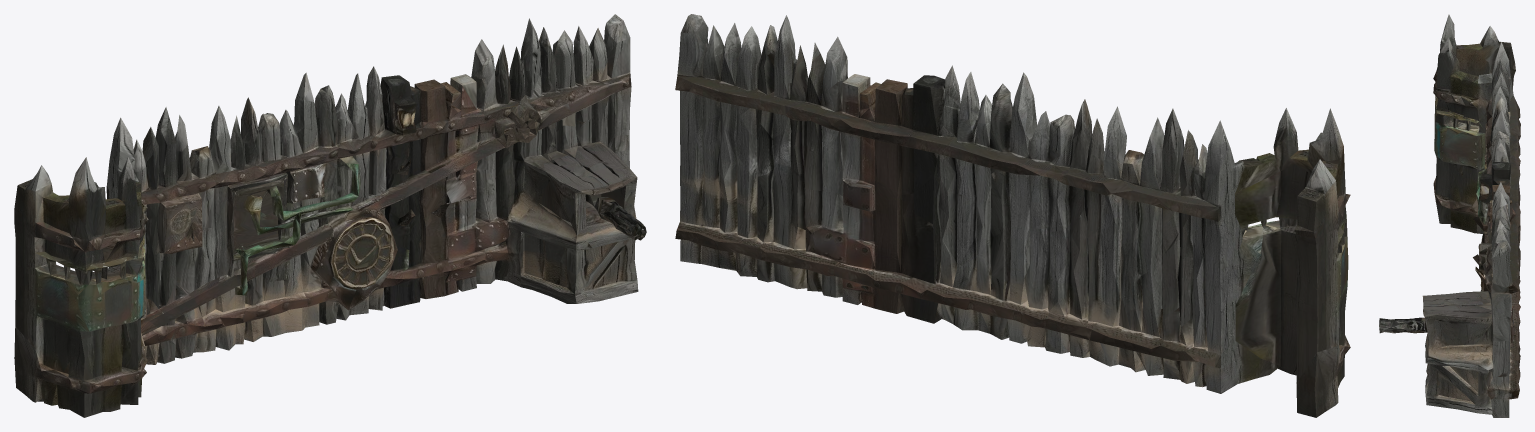
File: palisade_b.glb
The picture shows the model from 3 angles, left to right: view 1: azimuth 30°, elevation 25°; view 2: azimuth 150°, elevation 25°; view 3: azimuth 270°, elevation 25°; orthographic projection. The views are drawn at different scales.
Parts seen in each view (by area): view 1: mesh_node; view 2: mesh_node; view 3: mesh_node.
Part boxes in pixels (x1,y1,x2,y2): mesh_node: [14, 14, 646, 417]; mesh_node: [675, 14, 1350, 417]; mesh_node: [1379, 14, 1520, 417].
Size of the model in its own units: 1.9 by 0.7701 by 0.5123.
Materials: 1 (1 with a texture image).
